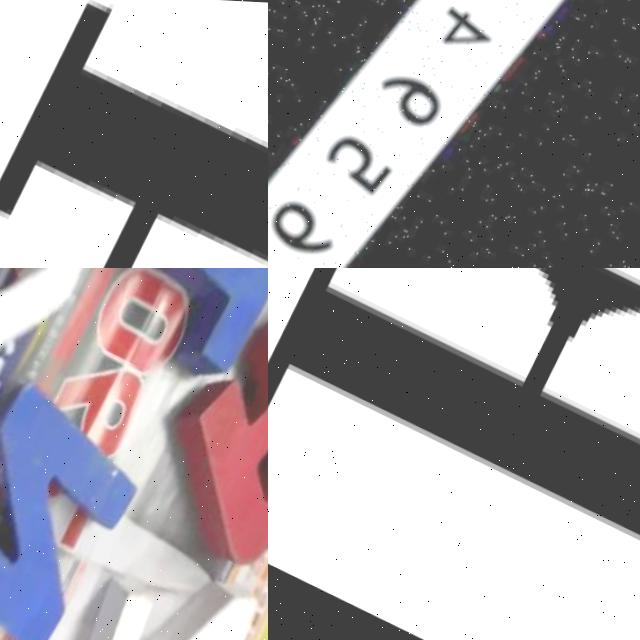4: (410, 0, 519, 80)
5: (301, 112, 420, 217)
6: (268, 174, 372, 268)
9: (352, 43, 474, 152)
A: (0, 0, 268, 268), (145, 270, 268, 578)
F: (268, 268, 640, 640)
N: (0, 368, 162, 640)
Q: (0, 268, 158, 373)
T: (96, 268, 268, 368)
Z: (23, 526, 268, 640)
